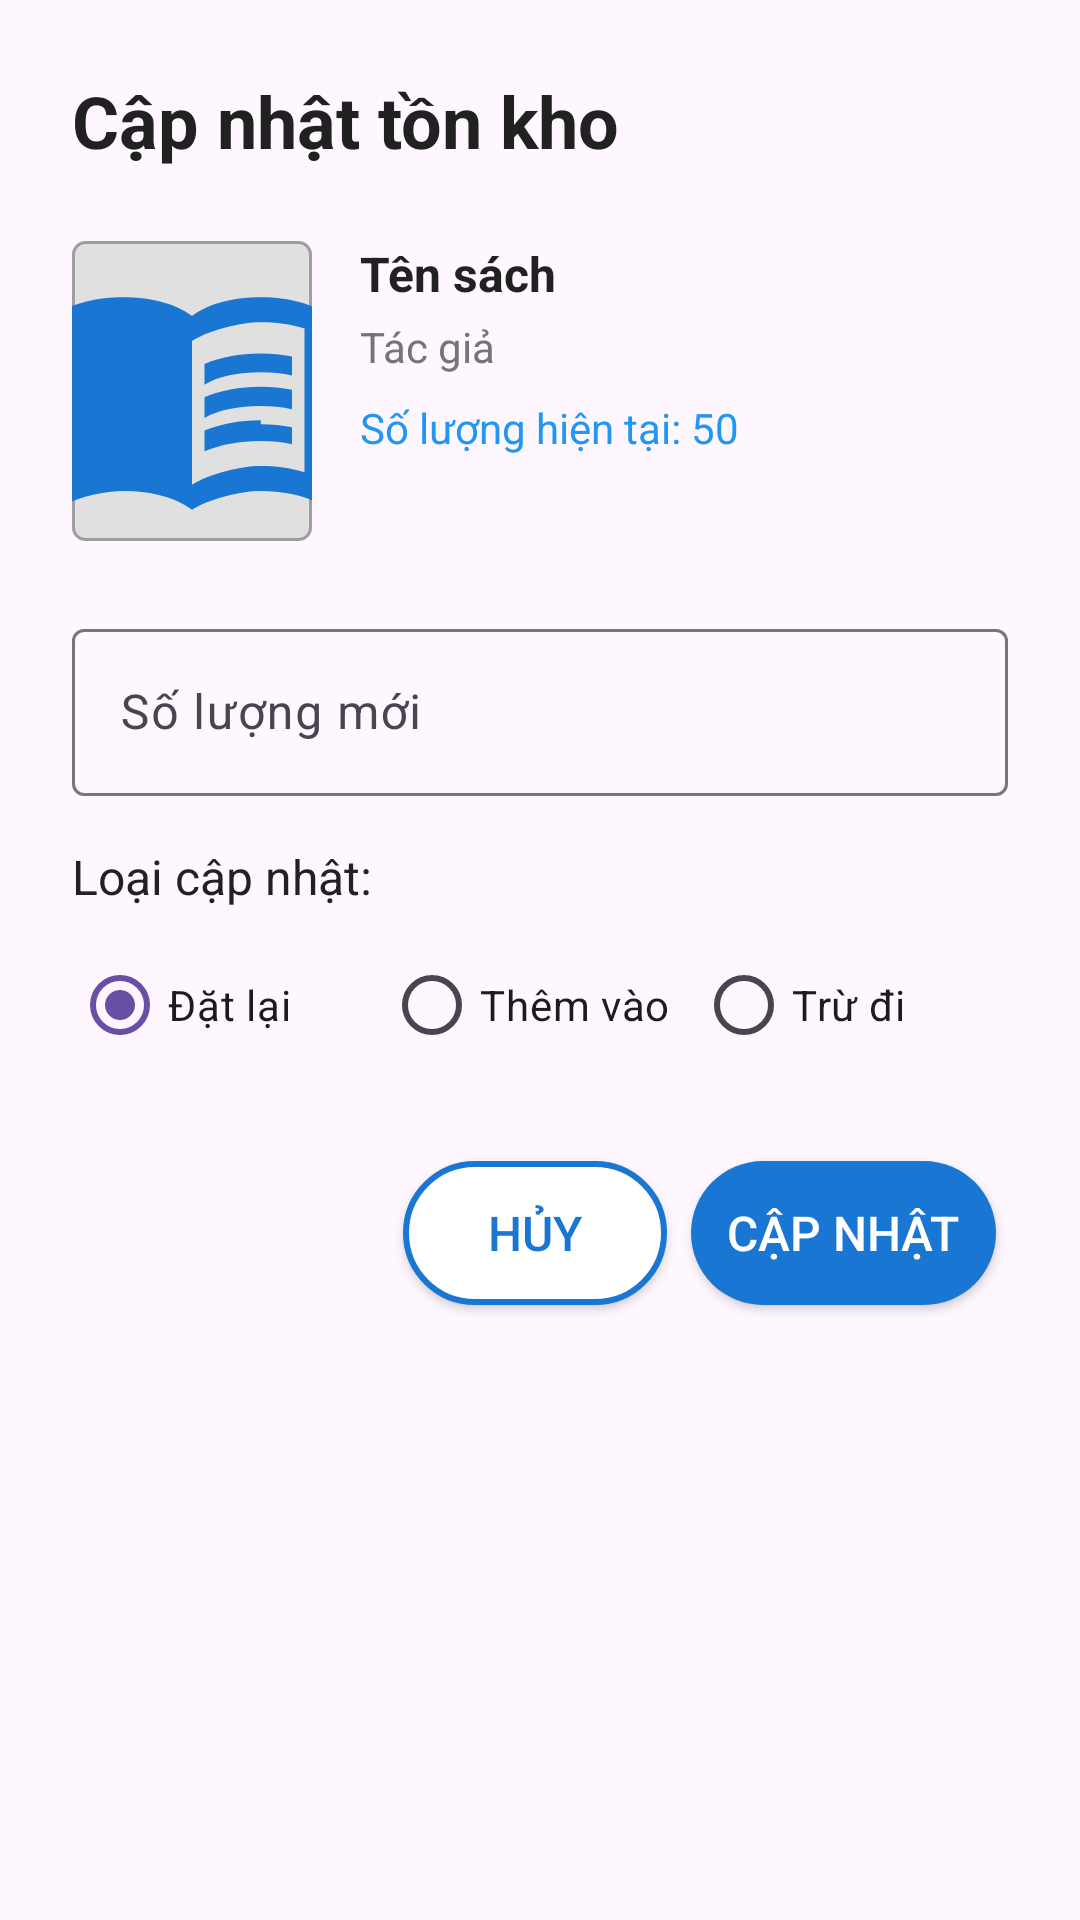

Icon bounding boxes for this 1080 × 1920 phone screenshot, format BBox(x1, y1, x2, y2):
book: BBox(72, 241, 312, 541)
